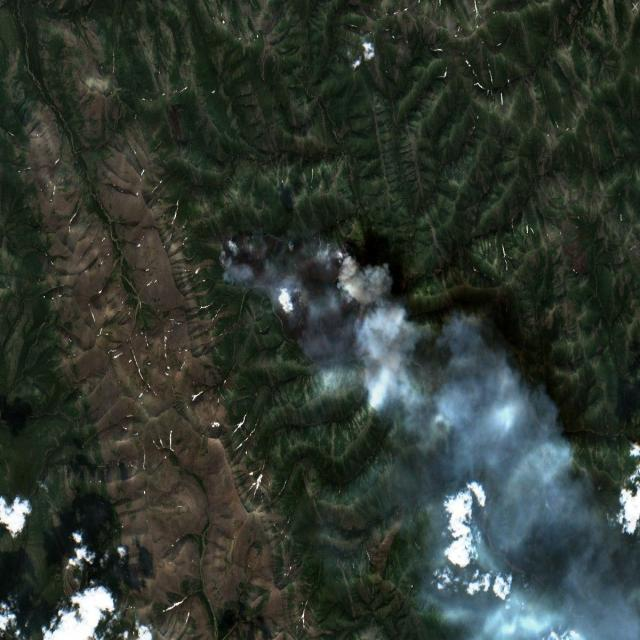fire: (217, 212, 392, 360)
